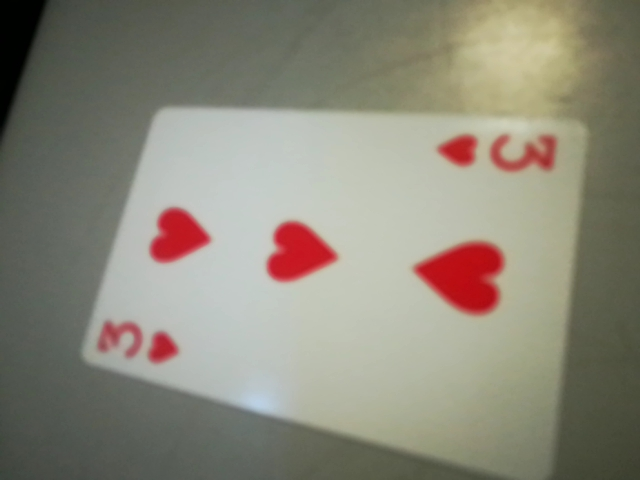hx 3: (427, 125, 569, 181)
